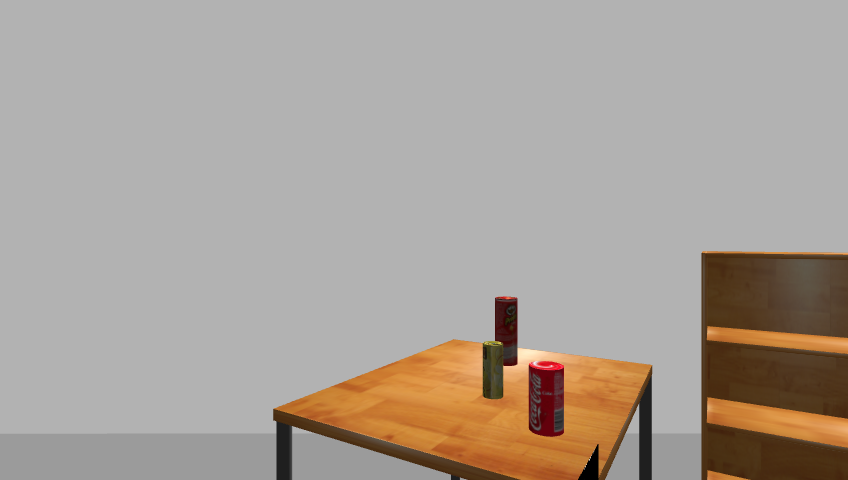aruco marker: (572, 445, 602, 480)
biscuits pack: (480, 340, 505, 400)
bookshelf: (695, 249, 848, 479)
coke can: (527, 361, 567, 437)
dinner table: (266, 339, 662, 479)
pringles can: (491, 295, 521, 368)
